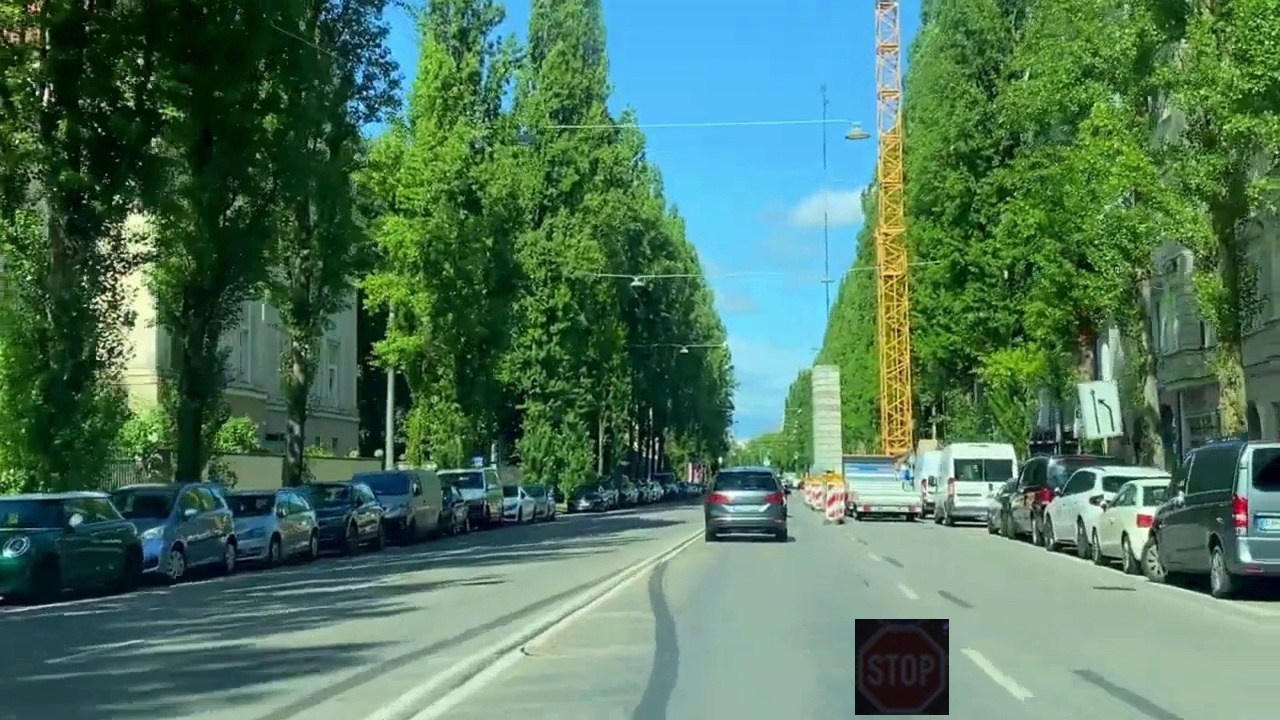Stop: (855, 619, 949, 715)
